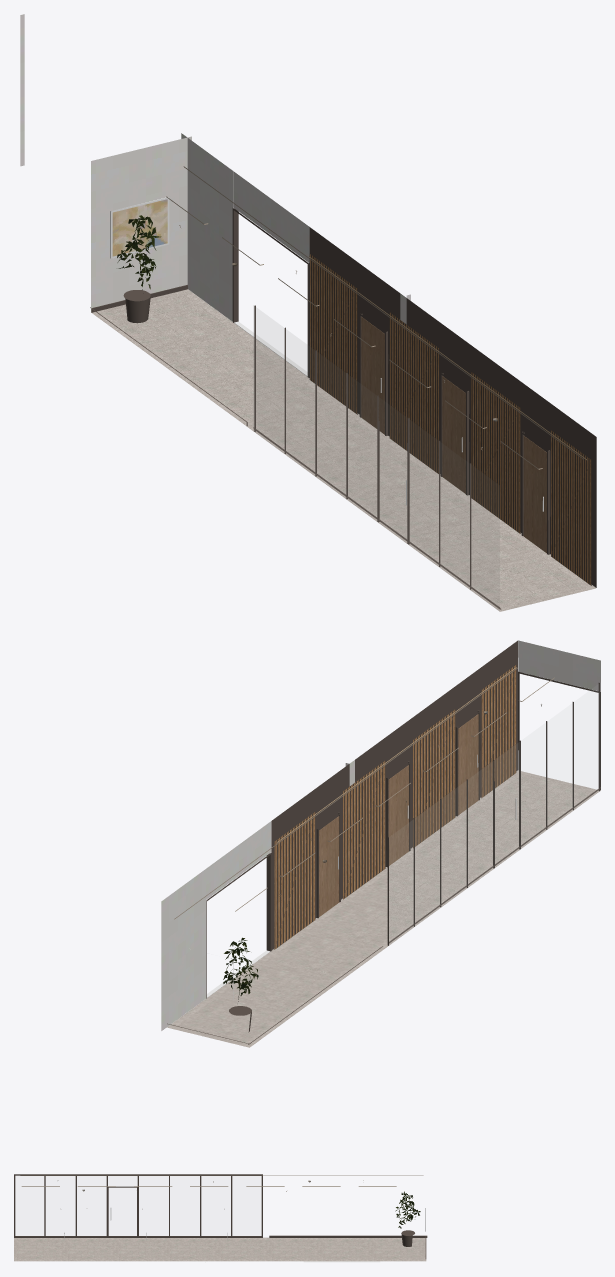
File: z-corridor-lite.light.814d9c1c.glb
The picture shows the model from 3 angles, top to bottom: view 1: azimuth 30°, elevation 25°; view 2: azimuth 150°, elevation 25°; view 3: azimuth 270°, elevation 25°; orthographic projection. The views are drawn at different scales.
Visible parts, largest first — view 1: corridor_terrazzo, corridor_proxy_slat, corridor_plaster, corridor_satin, corridor_oak, corridor_art, corridor_emit, corridor_veg_atlas, corridor_metal_lit; view 2: corridor_terrazzo, corridor_proxy_slat, corridor_satin, corridor_plaster, corridor_oak, corridor_emit, corridor_veg_atlas; view 3: corridor_terrazzo, corridor_satin, corridor_emit, corridor_veg_atlas, corridor_metal_lit.
Part boxes in pixels (x1=…): corridor_terrazzo: x1=91, y1=289, x2=595, y2=611; corridor_proxy_slat: x1=309, y1=254, x2=591, y2=585; corridor_plaster: x1=20, y1=14, x2=410, y2=324; corridor_satin: x1=90, y1=208, x2=596, y2=609; corridor_oak: x1=361, y1=317, x2=546, y2=553; corridor_art: x1=112, y1=199, x2=167, y2=256; corridor_emit: x1=166, y1=166, x2=587, y2=469; corridor_veg_atlas: x1=117, y1=215, x2=161, y2=289; corridor_metal_lit: x1=110, y1=197, x2=543, y2=511; corridor_terrazzo: x1=167, y1=770, x2=600, y2=1047; corridor_proxy_slat: x1=274, y1=665, x2=516, y2=949; corridor_satin: x1=167, y1=640, x2=600, y2=1044; corridor_plaster: x1=161, y1=640, x2=600, y2=1030; corridor_oak: x1=319, y1=714, x2=478, y2=916; corridor_emit: x1=174, y1=667, x2=554, y2=919; corridor_veg_atlas: x1=223, y1=937, x2=258, y2=1001; corridor_terrazzo: x1=14, y1=1237, x2=426, y2=1261; corridor_satin: x1=14, y1=1174, x2=427, y2=1258; corridor_emit: x1=20, y1=1175, x2=423, y2=1186; corridor_veg_atlas: x1=395, y1=1191, x2=420, y2=1228; corridor_metal_lit: x1=64, y1=1208, x2=425, y2=1262.
Size of the model in its own units: 2.3 by 3.35 by 23.
Materials: 11 (7 with a texture image).
